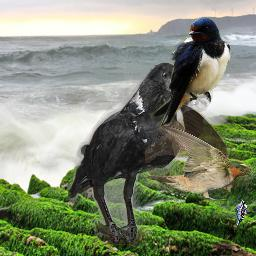Crow: (68, 62, 193, 245)
Swallow: (145, 104, 252, 201), (151, 16, 231, 129)
Woodpecker: (231, 198, 249, 230)
